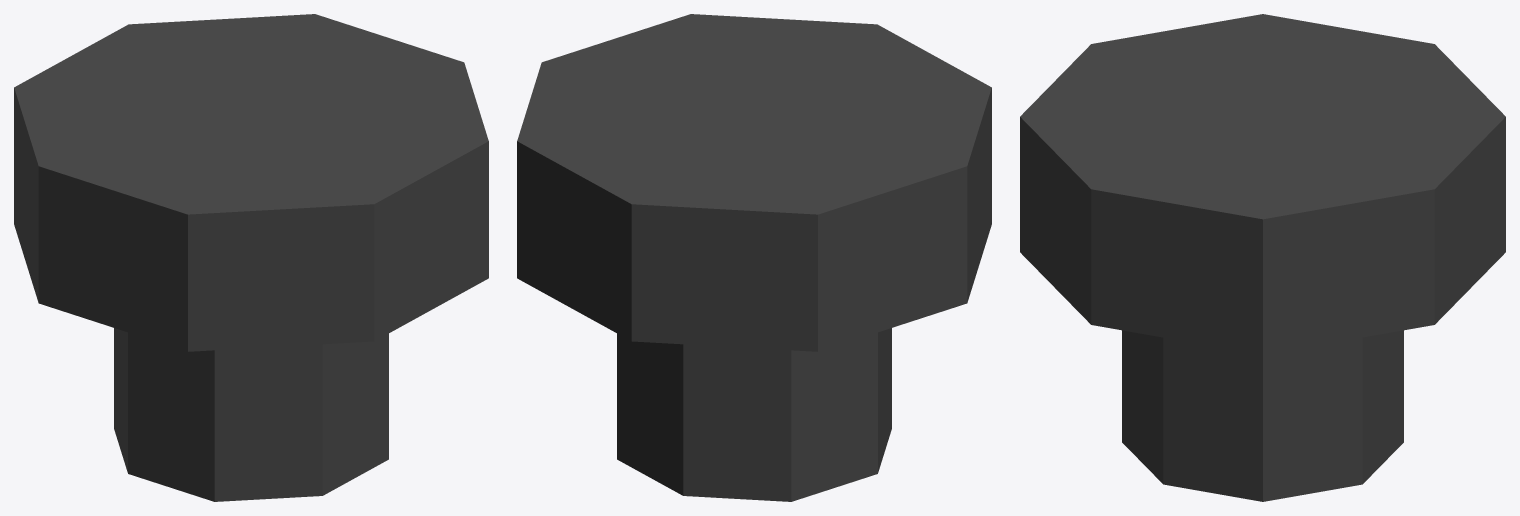
File: Plumbing1_C1_03.fbx
3 views of the same model, side by side, from view 1: azimuth 30°, elevation 25°; view 2: azimuth 150°, elevation 25°; view 3: azimuth 270°, elevation 25° (orthographic).
Visible parts, largest first — view 1: Plumbing1_C1_03; view 2: Plumbing1_C1_03; view 3: Plumbing1_C1_03.
Part boxes in pixels (left/top/right/bottom): Plumbing1_C1_03: left=14, top=14, right=488, bottom=501; Plumbing1_C1_03: left=517, top=14, right=991, bottom=501; Plumbing1_C1_03: left=1020, top=14, right=1505, bottom=501.
Bounding box in the file's own units: 2.73 × 2.02 × 2.73.
